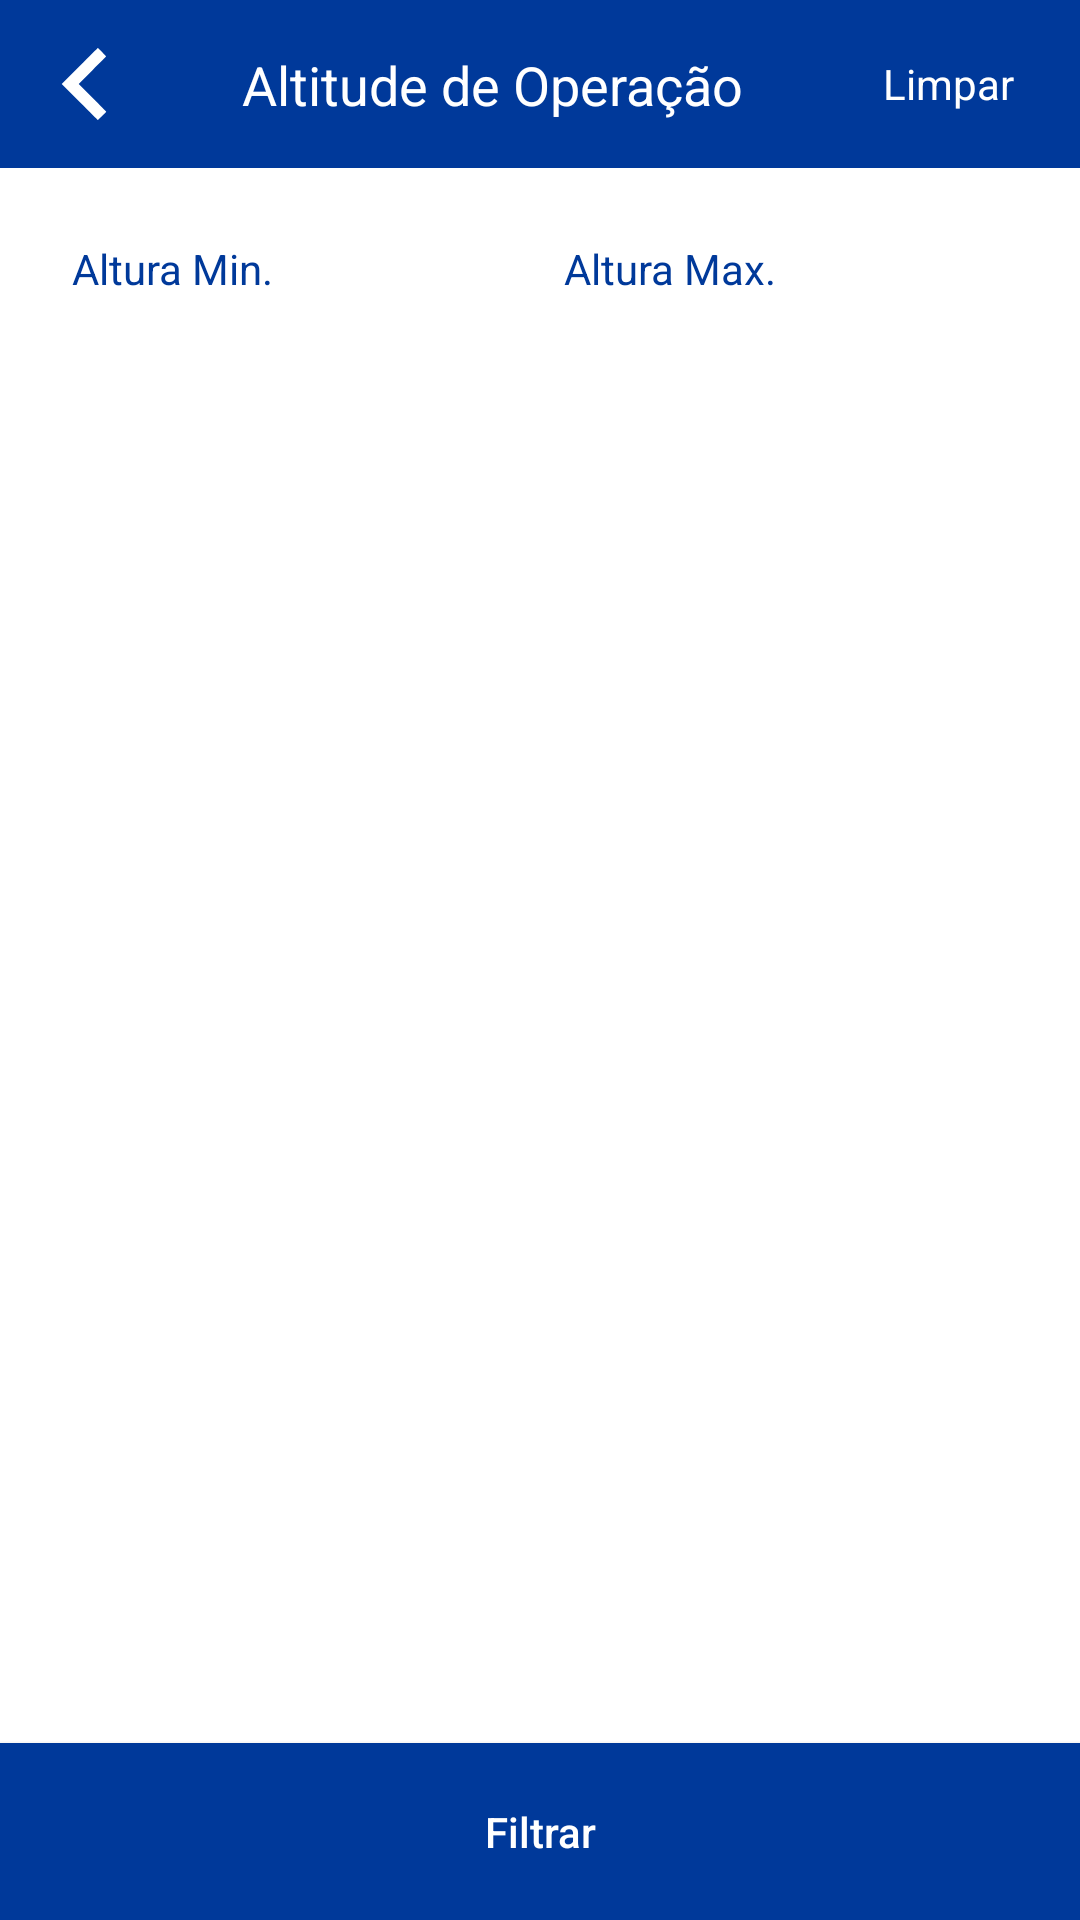

Icon click points for this 1080px×1920px phone screenshot, format [x,y]:
votlar: [84,84]
